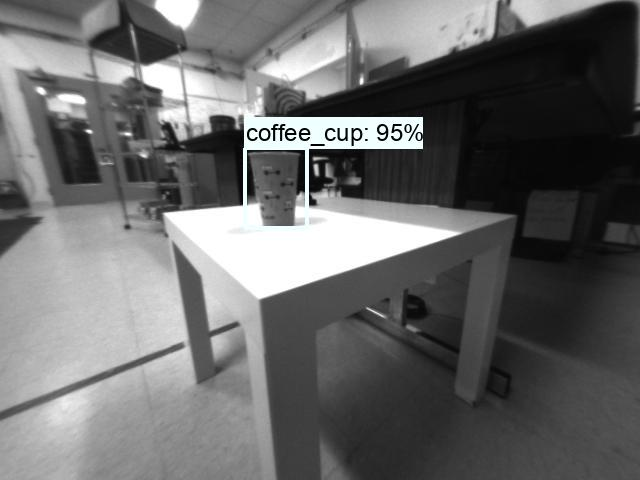coffee_cup: (241, 149, 308, 229)
